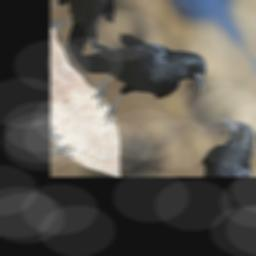Crow: (66, 0, 219, 152)
